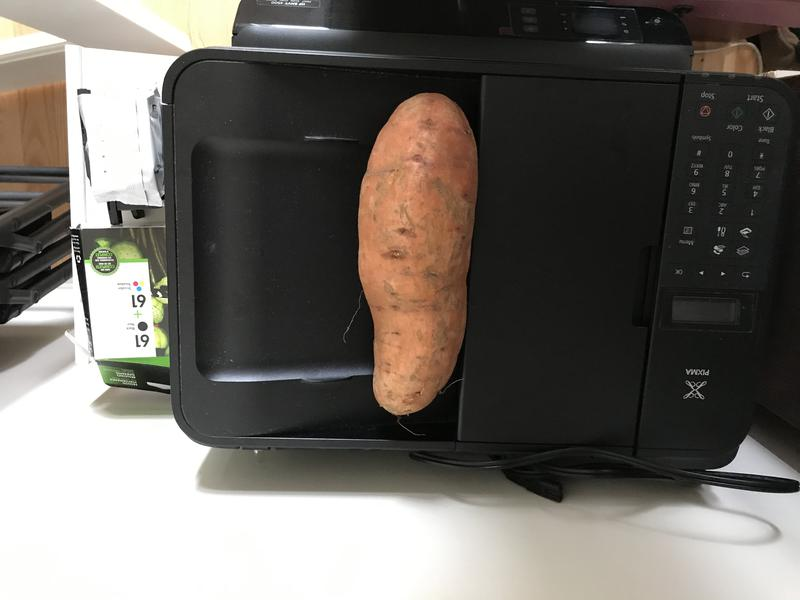sweet_potato: (350, 81, 489, 423)
